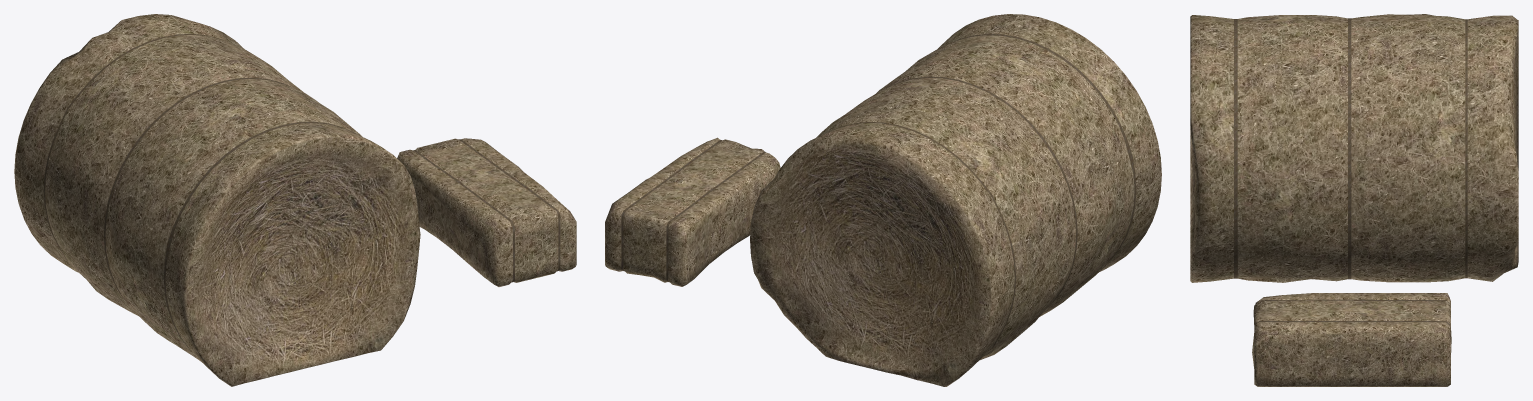
The model's file is OBJ-hay_bales.glb.
3 views of the same model, side by side, from view 1: azimuth 30°, elevation 25°; view 2: azimuth 150°, elevation 25°; view 3: azimuth 270°, elevation 25° (orthographic). The views are drawn at different scales.
Visible parts, largest first — view 1: Cylinder_0, Cube_1; view 2: Cylinder_0, Cube_1; view 3: Cylinder_0, Cube_1.
Part boxes in pixels (bbox=[...]): Cylinder_0: bbox=[14, 14, 420, 386]; Cube_1: bbox=[397, 138, 576, 286]; Cylinder_0: bbox=[750, 14, 1161, 386]; Cube_1: bbox=[605, 137, 780, 286]; Cylinder_0: bbox=[1190, 14, 1518, 282]; Cube_1: bbox=[1252, 293, 1451, 386].
Size of the model in its own units: 2.95 by 1.5 by 2.01.
Materials: 1 (1 with a texture image).
